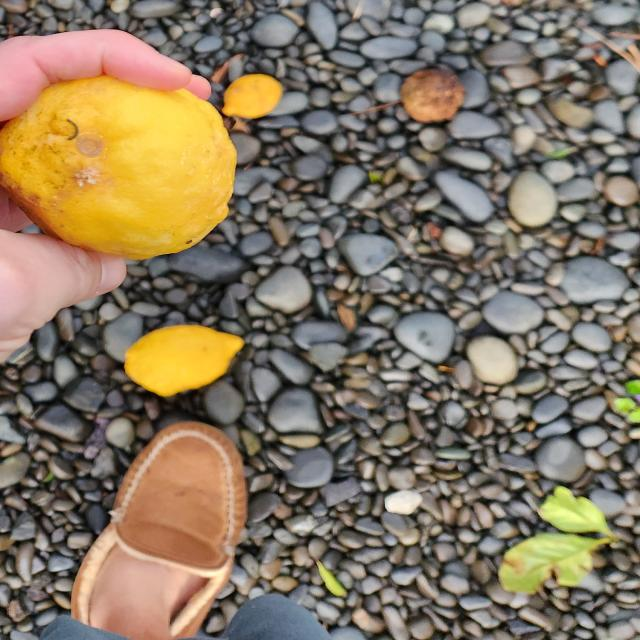lemon: (0, 75, 237, 258)
